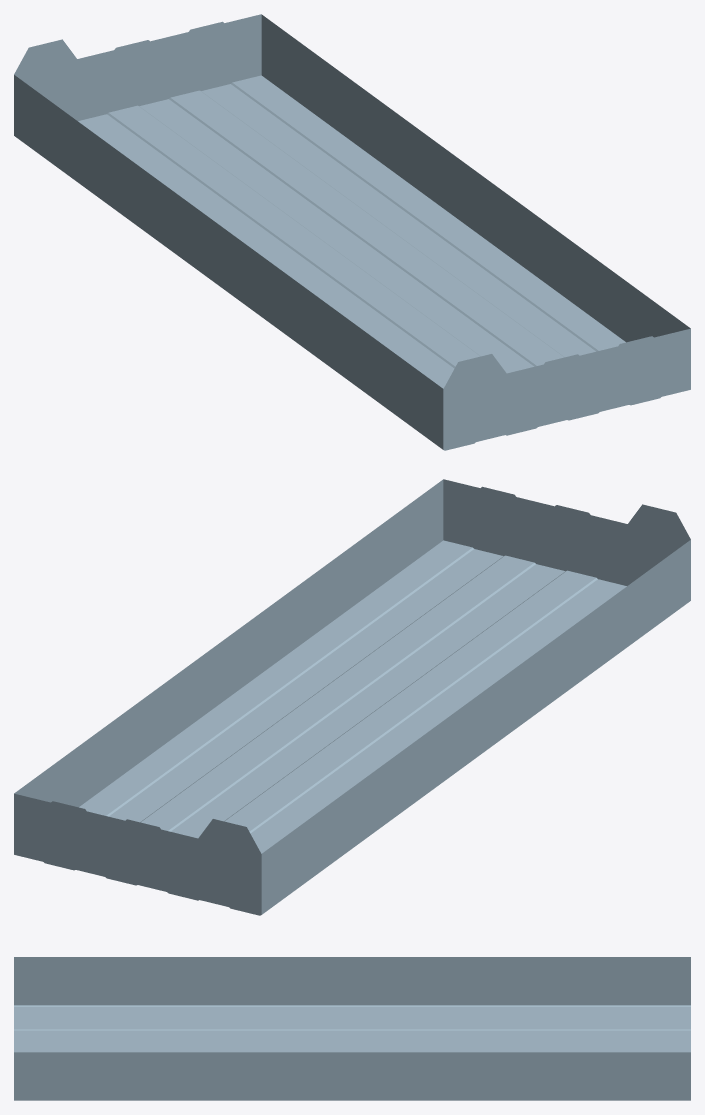
The model's file is isolated_plate_base_insulation.obj.
The picture shows the model from 3 angles, top to bottom: view 1: azimuth 30°, elevation 25°; view 2: azimuth 150°, elevation 25°; view 3: azimuth 270°, elevation 25°; orthographic projection. The views are drawn at different scales.
Parts seen in each view (by area): view 1: isolated_plate_base_insulation; view 2: isolated_plate_base_insulation; view 3: isolated_plate_base_insulation.
Part boxes in pixels (x1,y1,x2,y2): isolated_plate_base_insulation: (14, 14, 690, 450); isolated_plate_base_insulation: (14, 479, 690, 915); isolated_plate_base_insulation: (14, 957, 690, 1100).
Size of the model in its own units: 0.3327 by 0.11 by 1.
